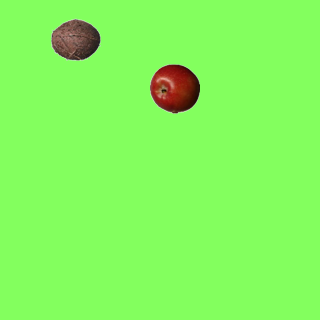Apple Braeburn: (149, 63, 199, 113)
Cocos: (50, 14, 100, 64)
